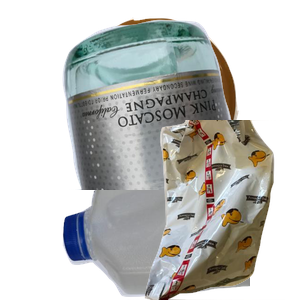glass: (60, 17, 300, 197)
metal: (66, 15, 297, 193)
plastic: (60, 135, 300, 300)
trash: (127, 120, 300, 300)
